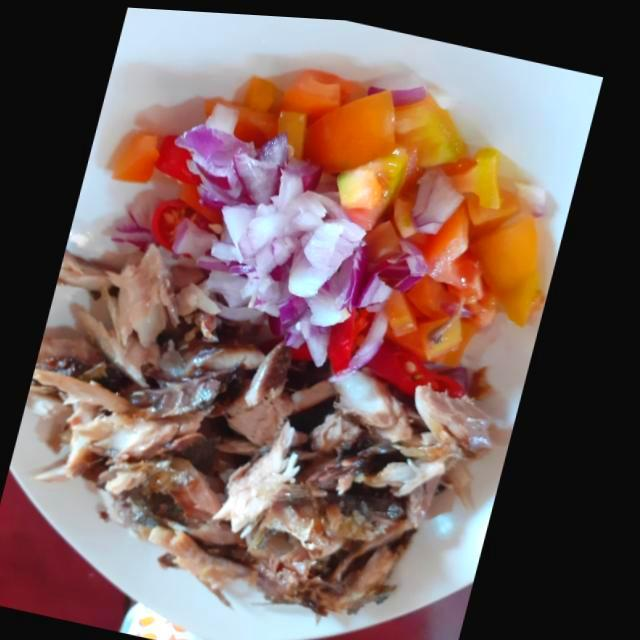left_over_food: (107, 332, 343, 598), (258, 365, 504, 616), (37, 244, 269, 485), (318, 409, 379, 456)
